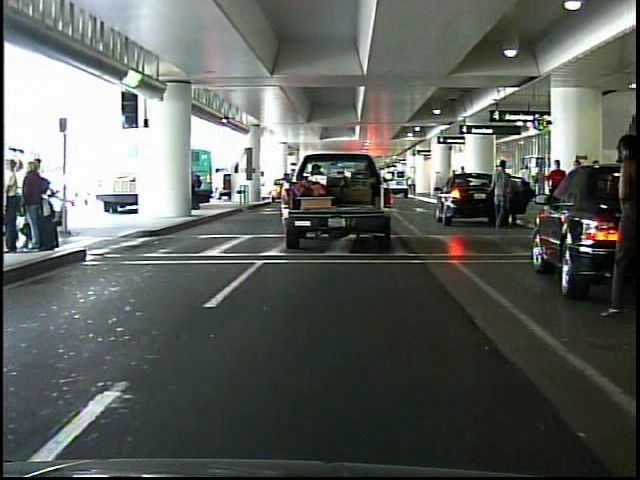person: (484, 156, 519, 236), (546, 156, 566, 182)
